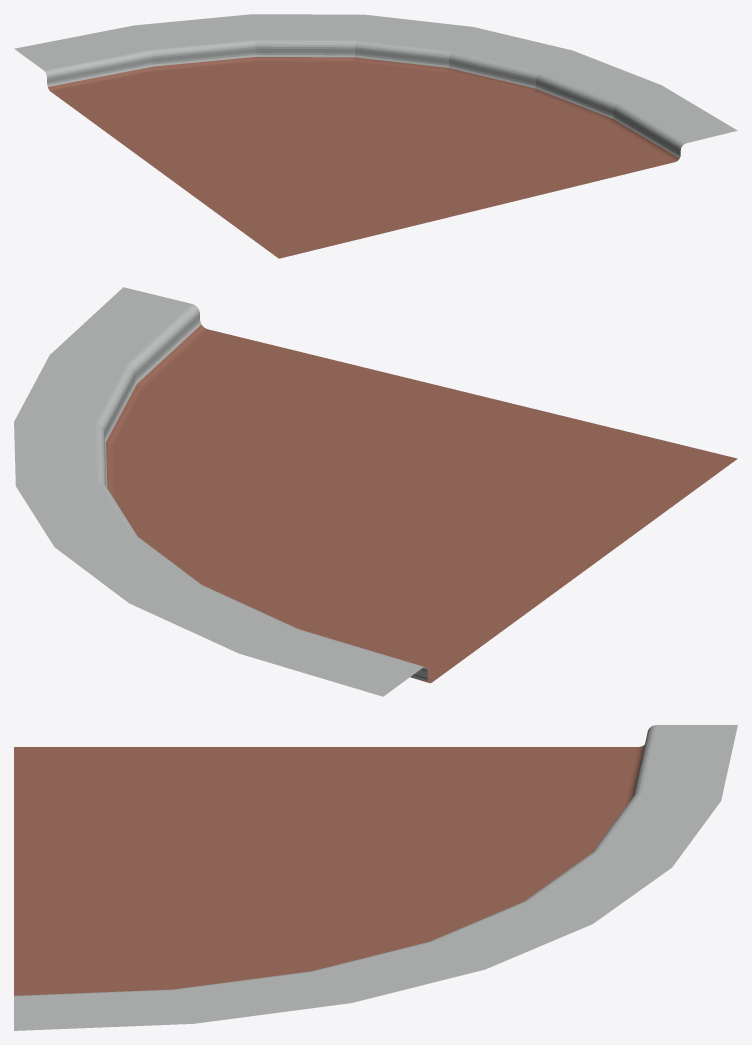
File: Free_Angle_Road.fbx
The picture shows the model from 3 angles, top to bottom: view 1: azimuth 30°, elevation 25°; view 2: azimuth 150°, elevation 25°; view 3: azimuth 270°, elevation 25°; orthographic projection. The views are drawn at different scales.
Visible parts, largest first — view 1: Plan.005; view 2: Plan.005; view 3: Plan.005.
Part boxes in pixels (bbox=[...]): Plan.005: bbox=[14, 14, 737, 258]; Plan.005: bbox=[14, 287, 737, 696]; Plan.005: bbox=[14, 725, 737, 1030].
Size of the model in its own units: 800 by 26.78 by 800.
